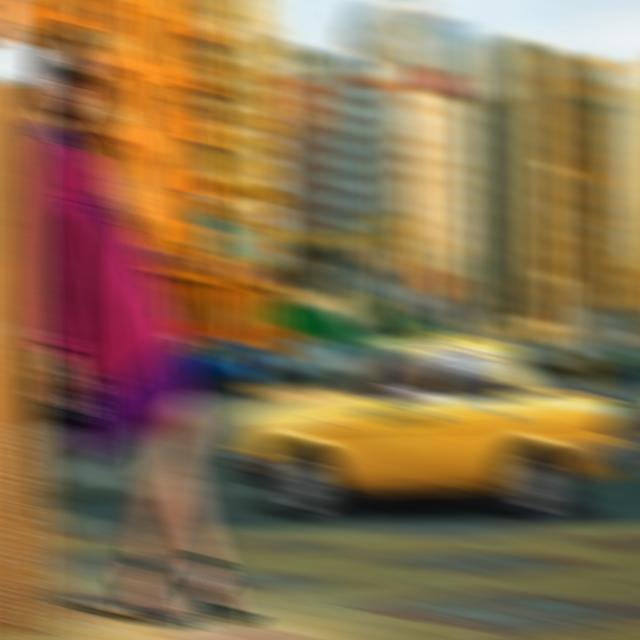Taxi: (226, 335, 640, 558)
